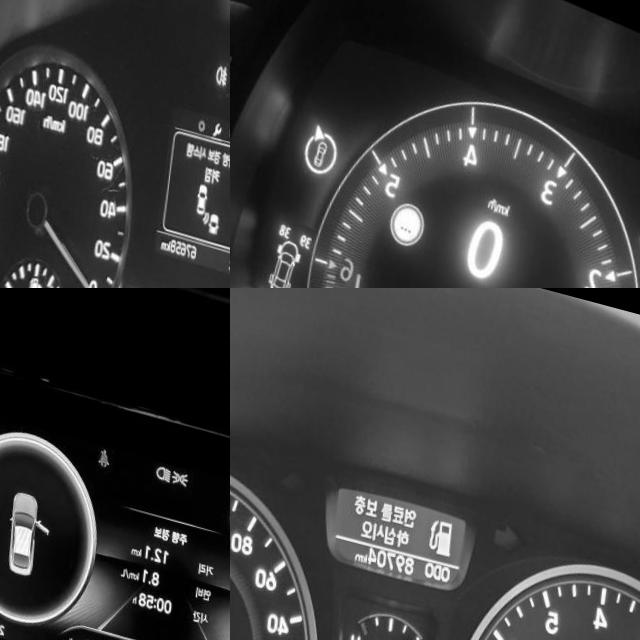FrontFogLight: (220, 42, 230, 71)
Low beam: (162, 448, 179, 468)
SideLamp: (177, 451, 195, 470)
